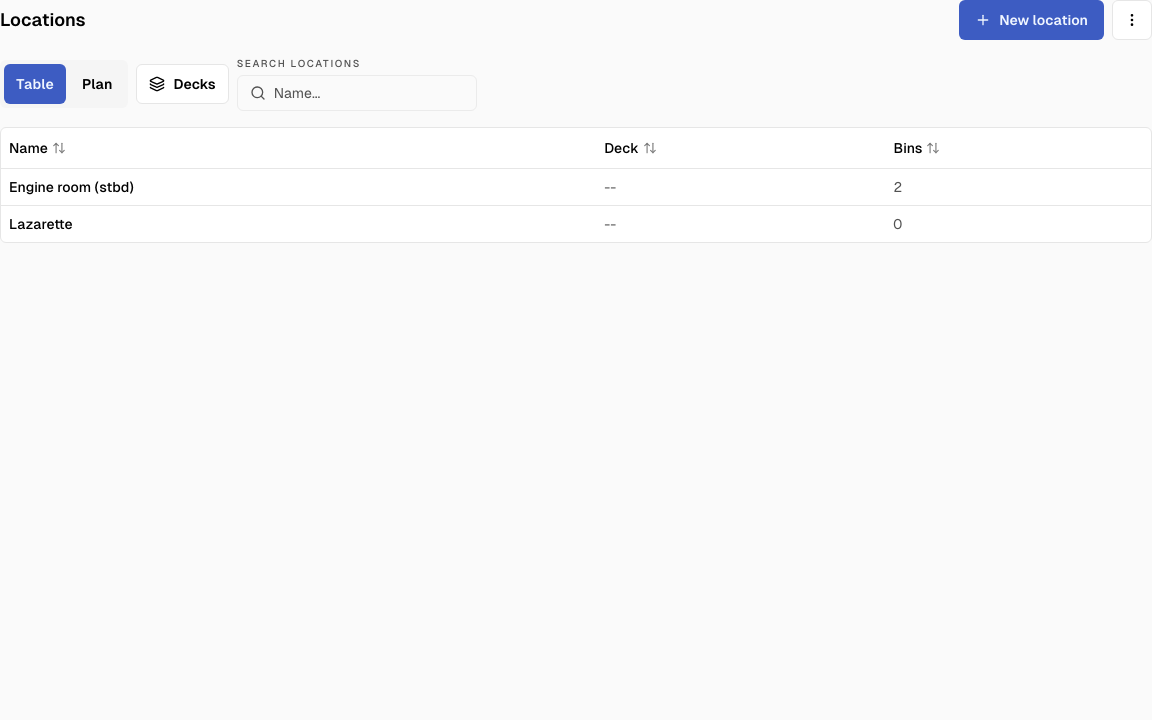
LocationsIndex › shows the server message verbatim when a create is refused
The width and height of the screenshot is (1152, 720).
Check: the text "Lazarette" is shown, box [9, 216, 73, 232]
Click the button "New location": (1032, 20) [959, 0, 1104, 40]
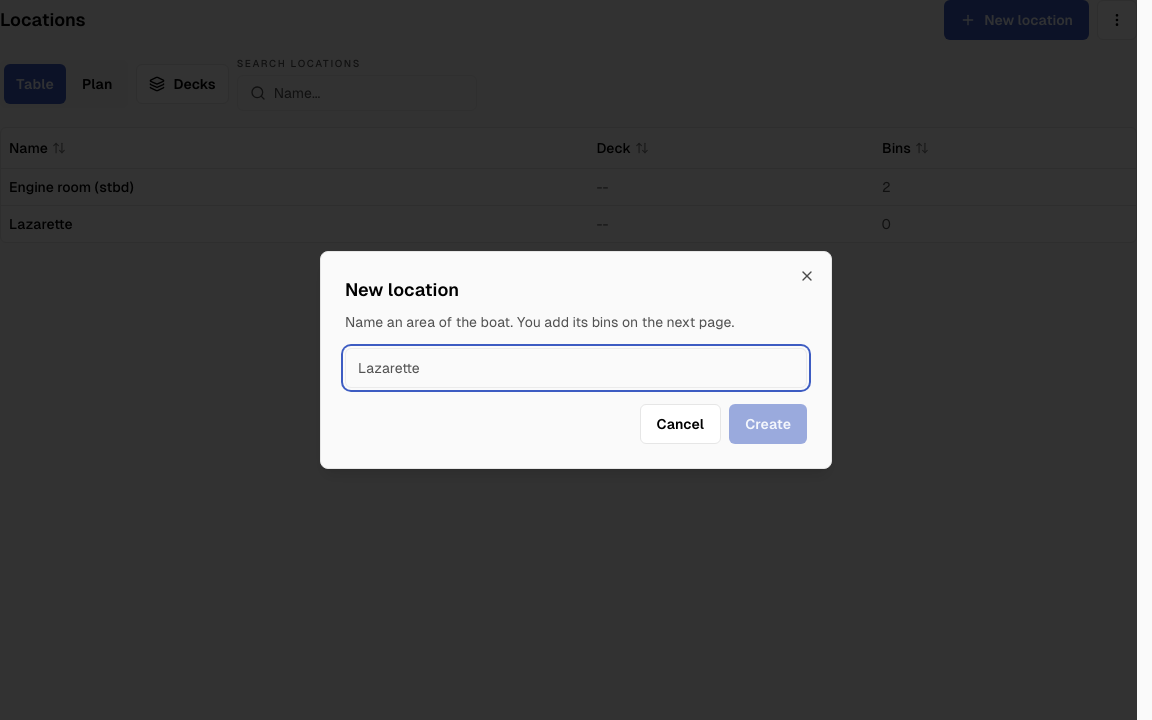
In the field named "Location name": (576, 368) [345, 348, 807, 388], type "lazarette"
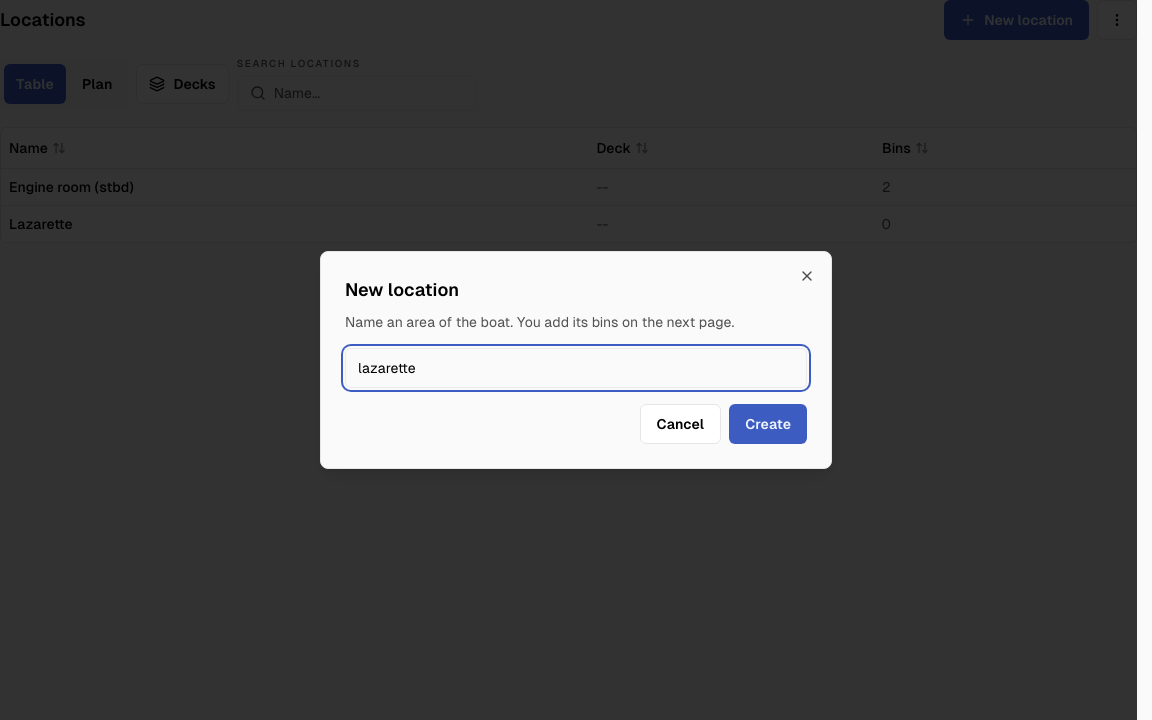
Click the button "Create": (768, 424) [729, 404, 807, 444]
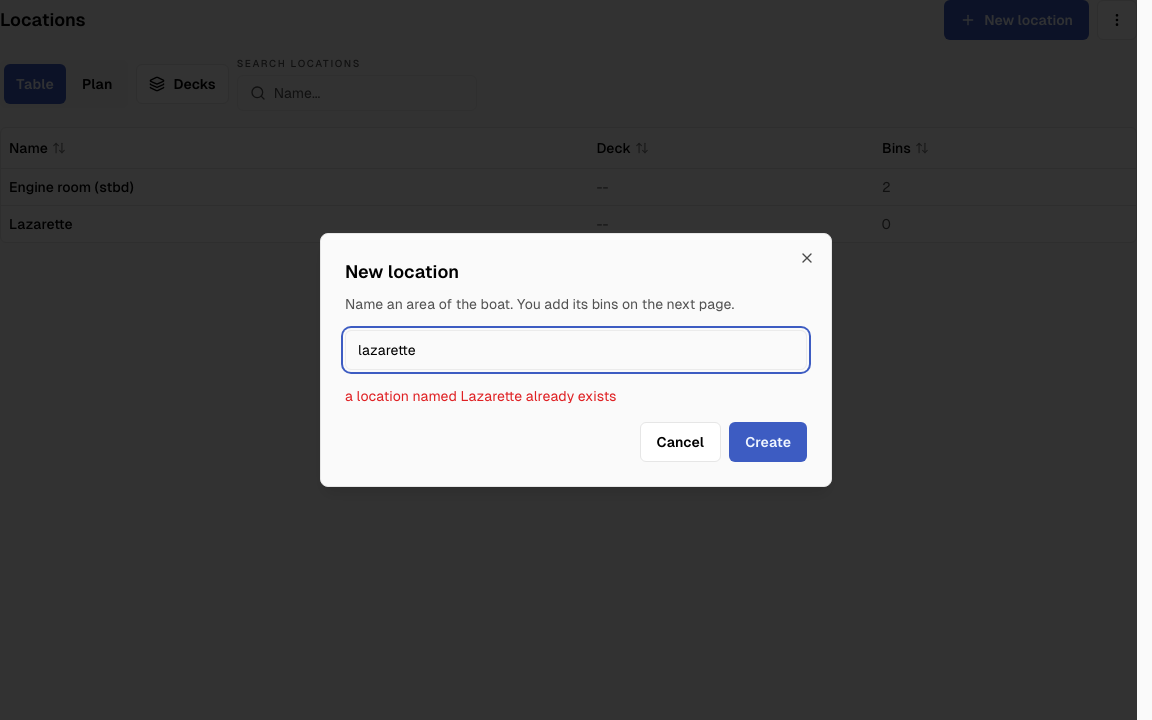
Check: the text "a location named Lazarette already exists" is shown, box [345, 388, 616, 404]
